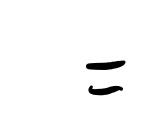eqv: (87, 60, 125, 95)
